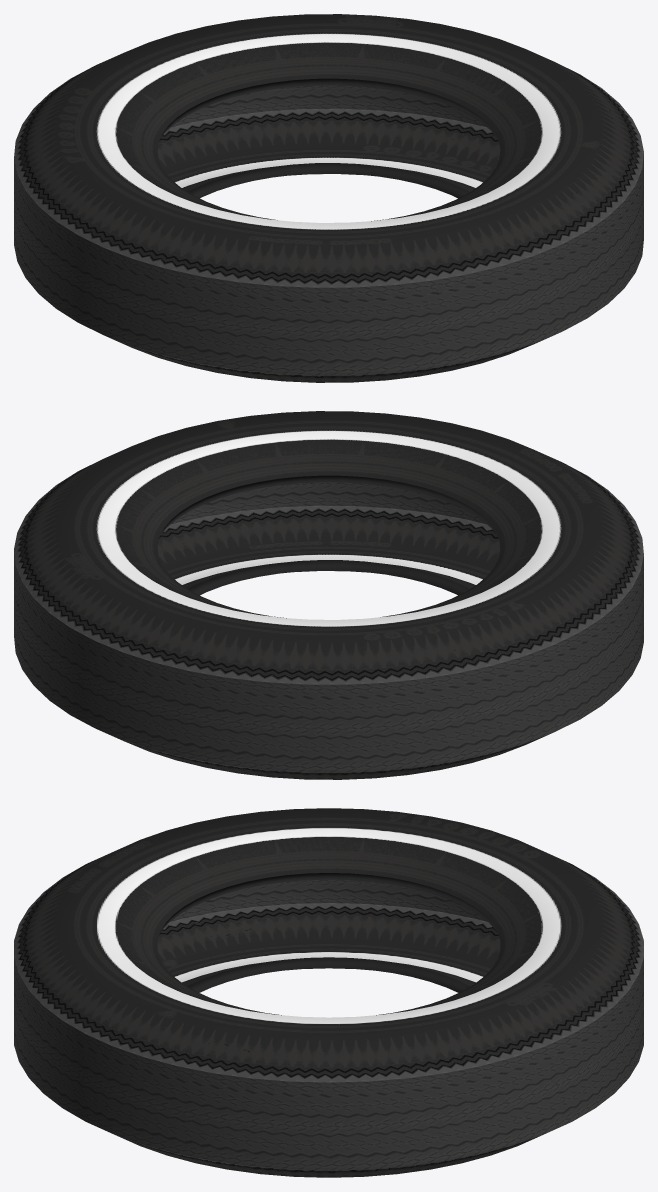
Rendered from tyre.fbx.
3 renders of one model, top to bottom at view 1: azimuth 30°, elevation 25°; view 2: azimuth 150°, elevation 25°; view 3: azimuth 270°, elevation 25°, orthographic.
Parts seen in each view (by area): view 1: low; view 2: low; view 3: low.
Boxes of the visible parts, left/top/right/bottom form: low: left=14, top=14, right=643, bottom=382; low: left=14, top=411, right=643, bottom=779; low: left=14, top=808, right=643, bottom=1177.
Size of the model in its own units: 8.04 by 1.92 by 8.02.
